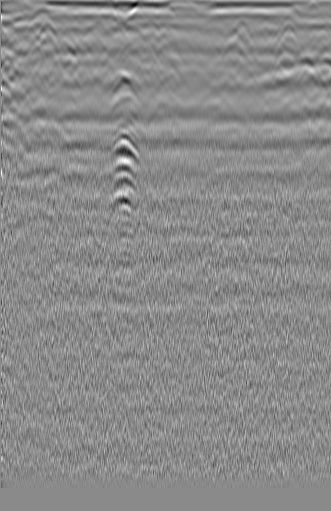가스: (103, 152, 139, 188)
상수: (6, 34, 38, 61)
오수: (294, 41, 321, 71)
우수: (152, 36, 186, 67)
